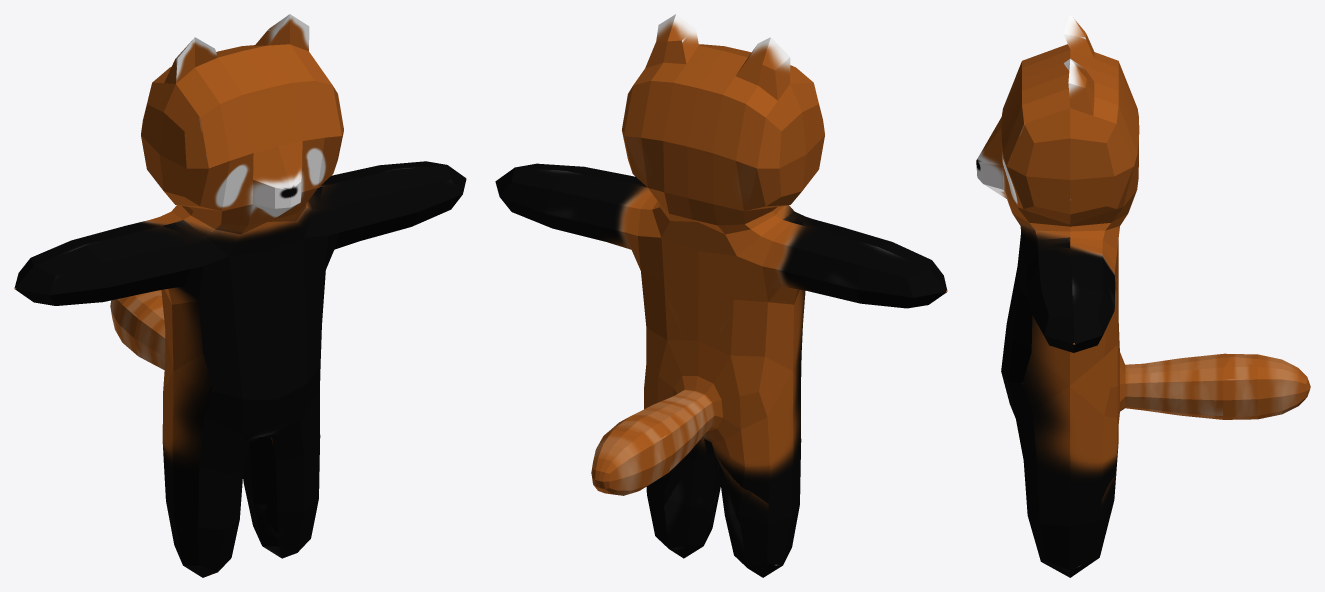
Rendered from Bibou.fbx.
3 views of the same model, side by side, from view 1: azimuth 30°, elevation 25°; view 2: azimuth 150°, elevation 25°; view 3: azimuth 270°, elevation 25° (orthographic). The views are drawn at different scales.
Visible parts, largest first — view 1: Bibou; view 2: Bibou; view 3: Bibou.
Boxes of the visible parts, x1,y1,x2,y2 form: Bibou: (14,14,466,577); Bibou: (495,14,947,577); Bibou: (976,14,1310,577).
Bounding box in the file's own units: 625 × 717 × 416.
Materials: 1 (1 with a texture image).
